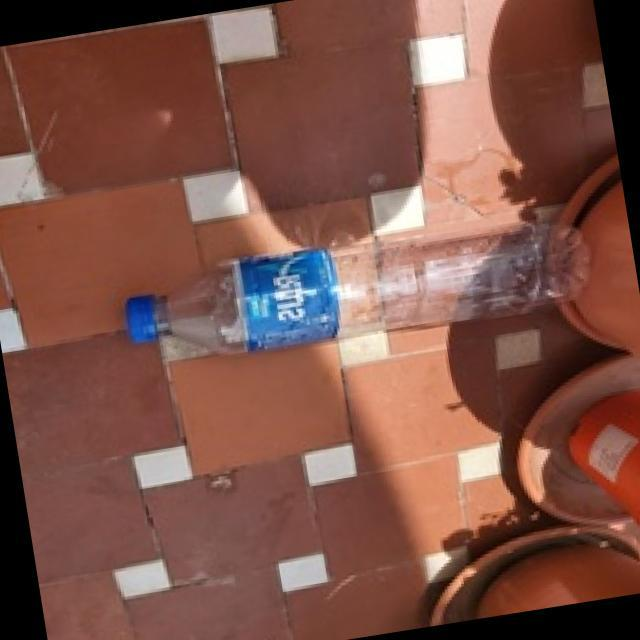good: (106, 184, 610, 388)
